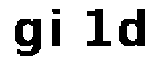1: (80, 5, 116, 51)
d: (115, 8, 152, 48)
g: (12, 16, 44, 60)
i: (50, 5, 65, 56)
